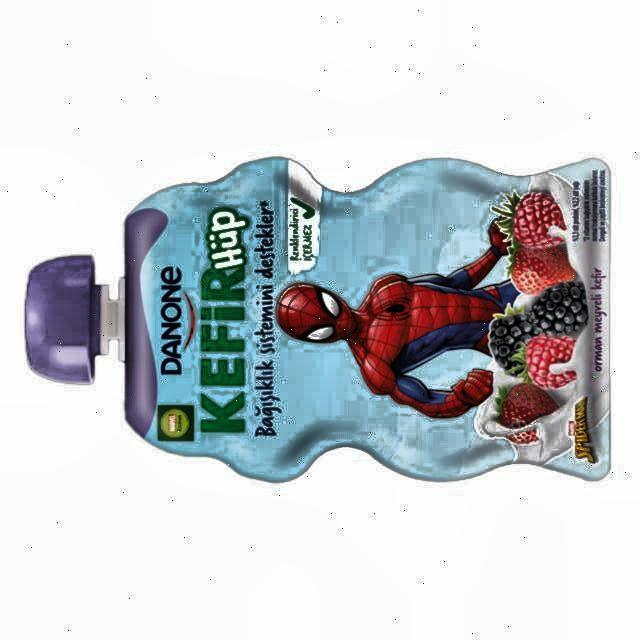plastic: (25, 158, 609, 480)
